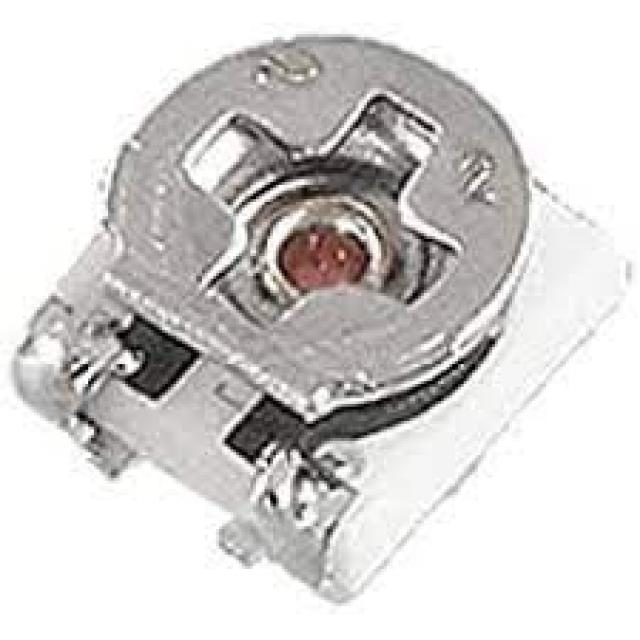potentiometer POT1: (41, 30, 542, 460)
